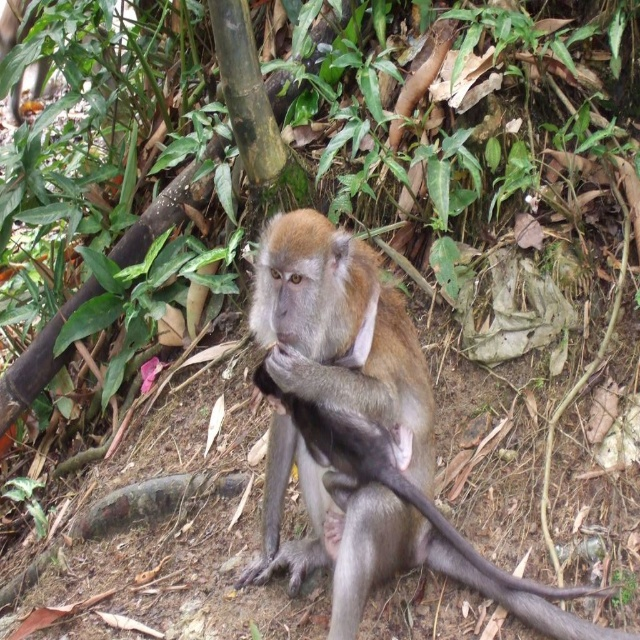Monkey: (258, 211, 562, 640)
